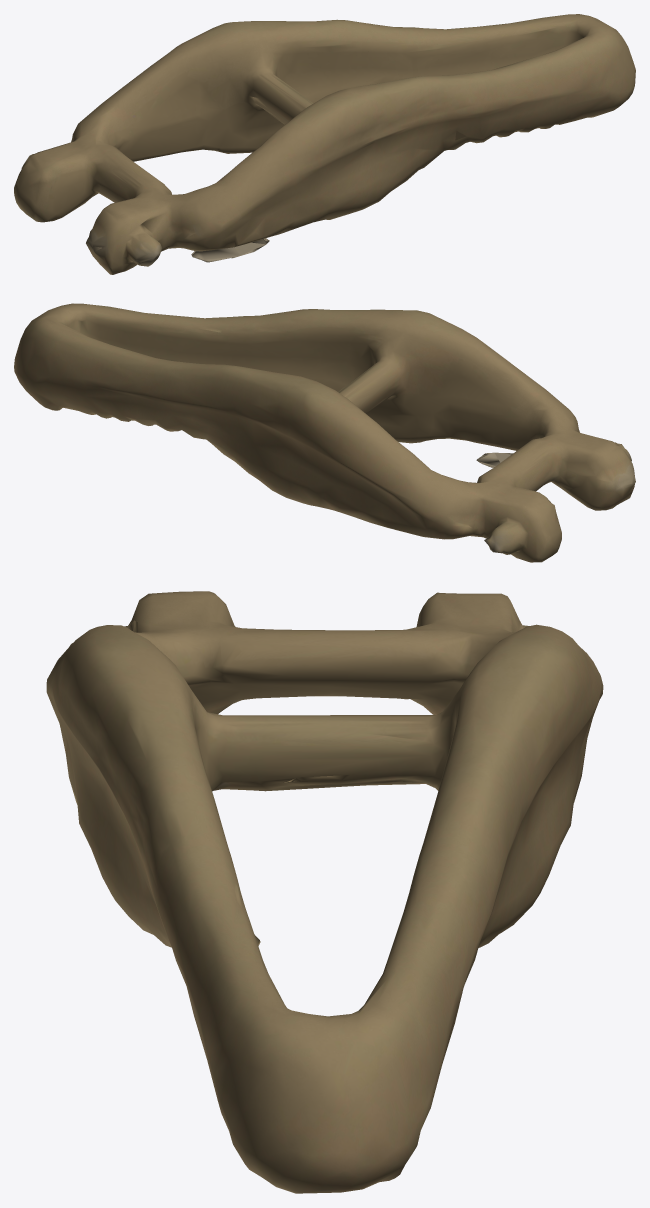
File: bone7.glb
3 views of the same model, one above another, from view 1: azimuth 30°, elevation 25°; view 2: azimuth 150°, elevation 25°; view 3: azimuth 270°, elevation 25° (orthographic). The views are drawn at different scales.
Parts seen in each view (by area): view 1: tripo_node_a7e4973e-c823-4d2e-9b97-84fa7933553a; view 2: tripo_node_a7e4973e-c823-4d2e-9b97-84fa7933553a; view 3: tripo_node_a7e4973e-c823-4d2e-9b97-84fa7933553a.
Part boxes in pixels (x1,y1,x2,y2): tripo_node_a7e4973e-c823-4d2e-9b97-84fa7933553a: (14, 14, 635, 274); tripo_node_a7e4973e-c823-4d2e-9b97-84fa7933553a: (14, 303, 635, 562); tripo_node_a7e4973e-c823-4d2e-9b97-84fa7933553a: (46, 591, 603, 1193).
Size of the model in its own units: 0.9803 by 0.2072 by 0.4099.
Materials: 1 (1 with a texture image).
